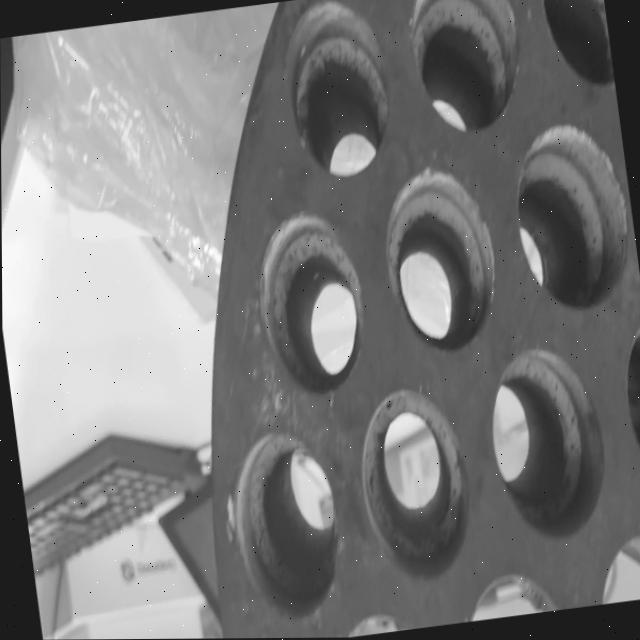Hole: (479, 340, 613, 547), (504, 116, 638, 321), (215, 425, 350, 626), (348, 382, 476, 590), (375, 161, 505, 360), (248, 207, 373, 403), (275, 0, 398, 182), (402, 0, 529, 139), (537, 0, 615, 96), (615, 311, 640, 505)
